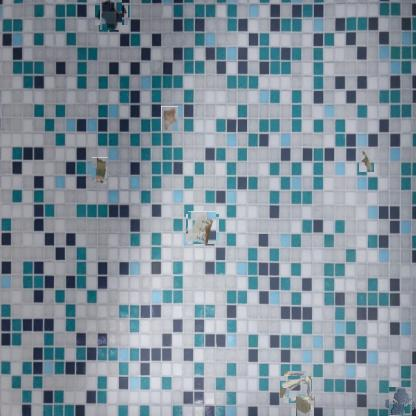dirty: (187, 213, 218, 243), (281, 374, 309, 401), (92, 157, 108, 184), (161, 106, 178, 131), (296, 394, 314, 416), (360, 148, 376, 172)
liquid: (98, 0, 125, 28), (386, 389, 413, 416)
